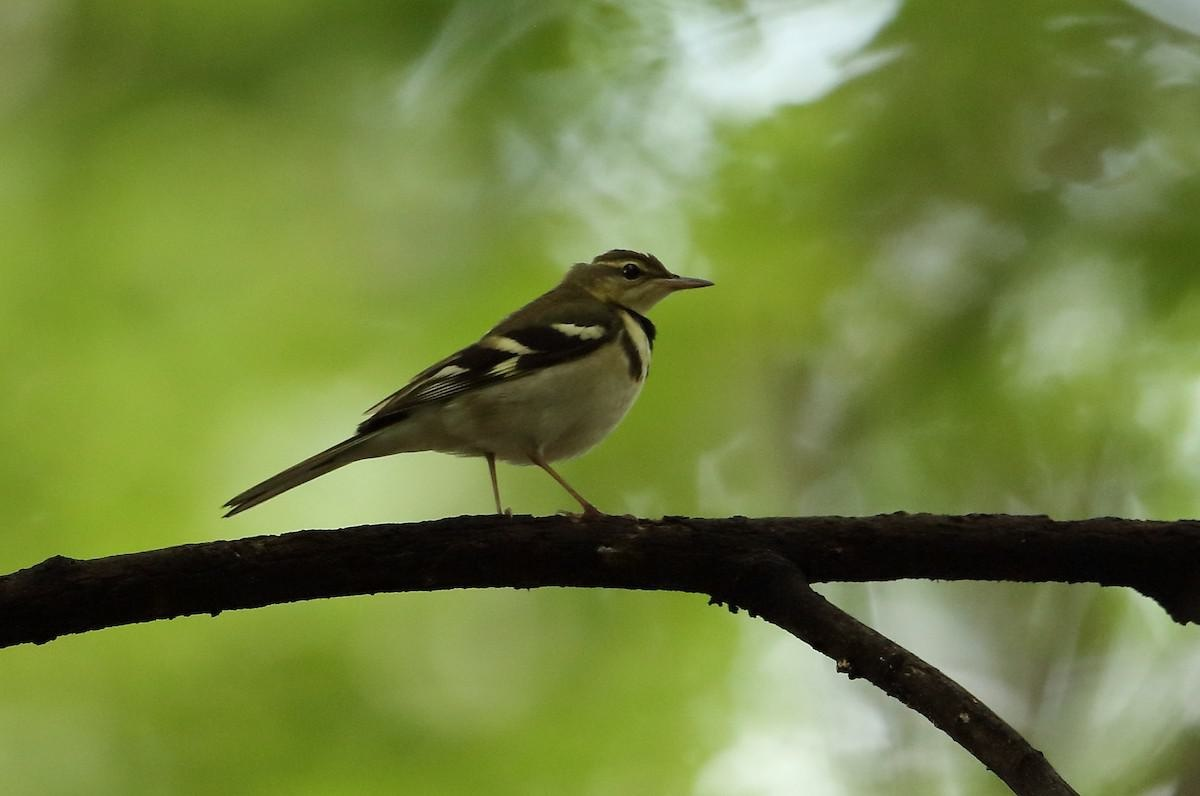wagtail: (269, 238, 733, 524)
